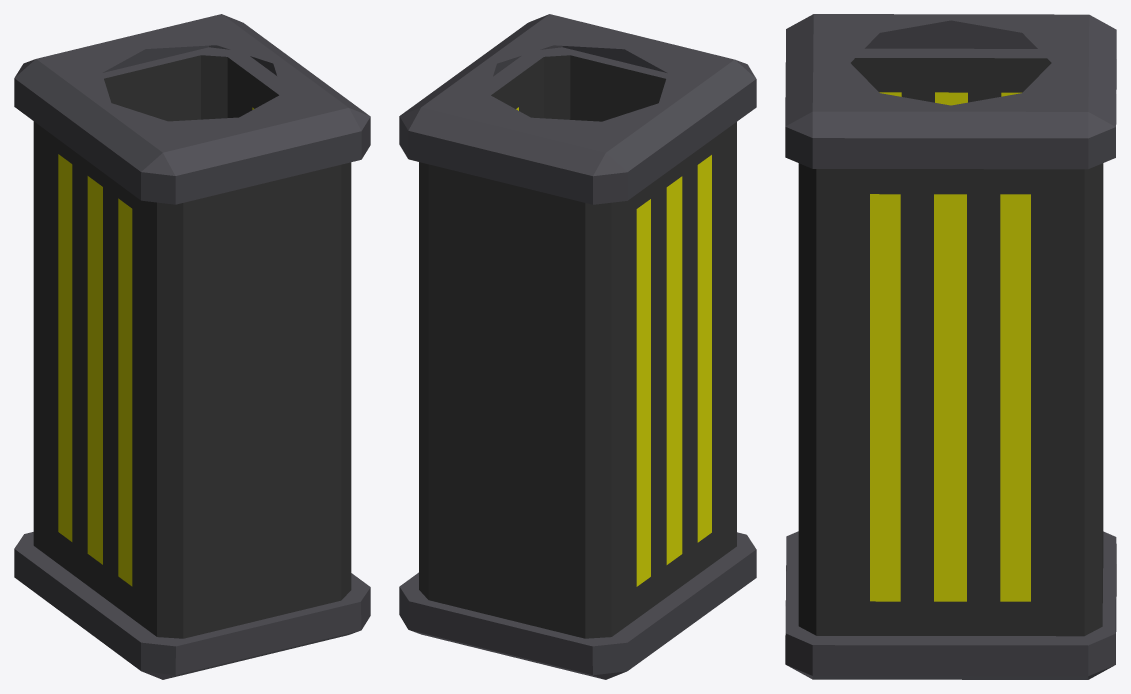
Rendered from Msh_Magazine_A_V5.FBX.
The picture shows the model from 3 angles, left to right: view 1: azimuth 30°, elevation 25°; view 2: azimuth 150°, elevation 25°; view 3: azimuth 270°, elevation 25°; orthographic projection. The views are drawn at different scales.
Parts seen in each view (by area): view 1: Msh_Magazine_AV5; view 2: Msh_Magazine_AV5; view 3: Msh_Magazine_AV5.
Boxes of the visible parts, x1,y1,x2,y2 form: Msh_Magazine_AV5: (14, 14, 370, 679); Msh_Magazine_AV5: (399, 14, 756, 679); Msh_Magazine_AV5: (785, 14, 1116, 679).
Size of the model in its own units: 0.0386 by 0.0448 by 0.0846.
